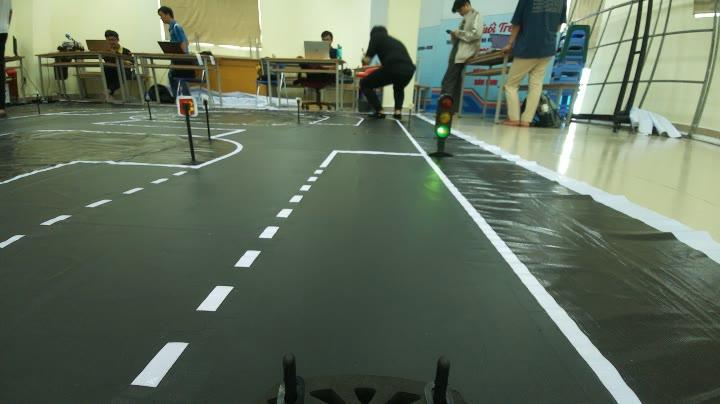trafficlight: (424, 91, 456, 160)
